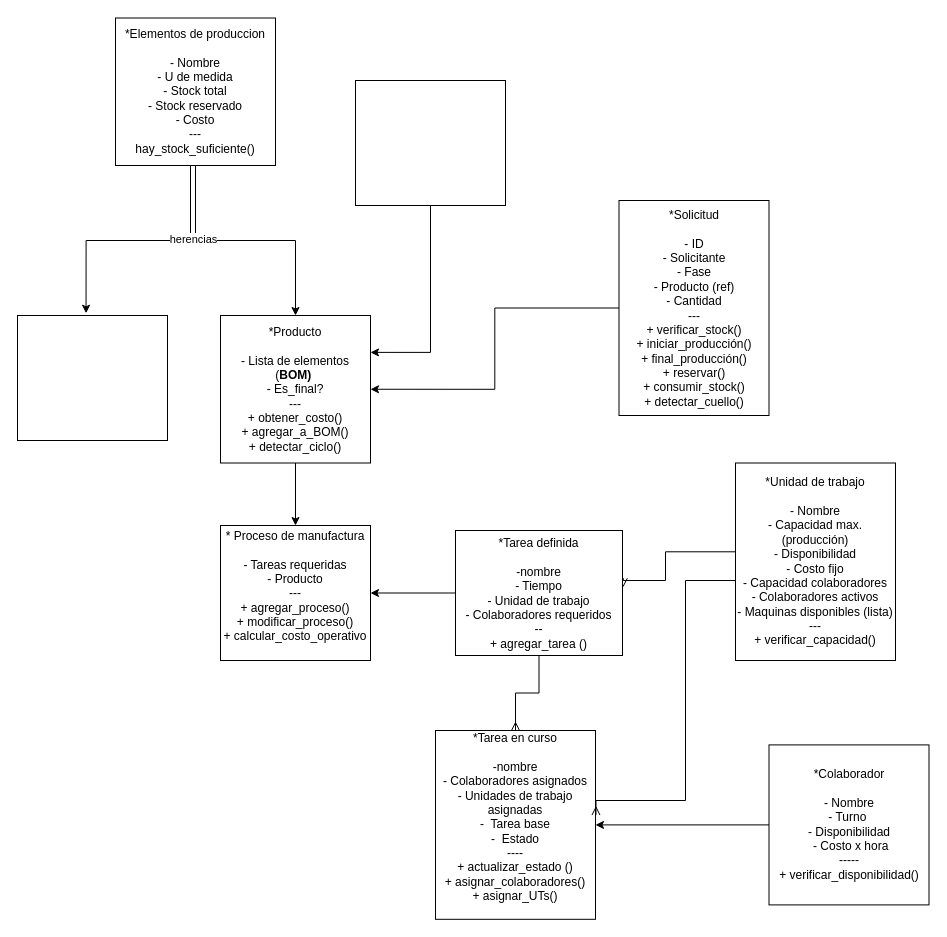
Image size: 947x937. Some labels were removed from this diagram. Here are the shapes that lost their labels. From the top down, the centre of each, then its label:
(x=430, y=143): *Componente de BOM - elemento produccion -cantidad --- + validar_cantidad()
(x=92, y=377): *Insumo --- + actualizar_costo()
